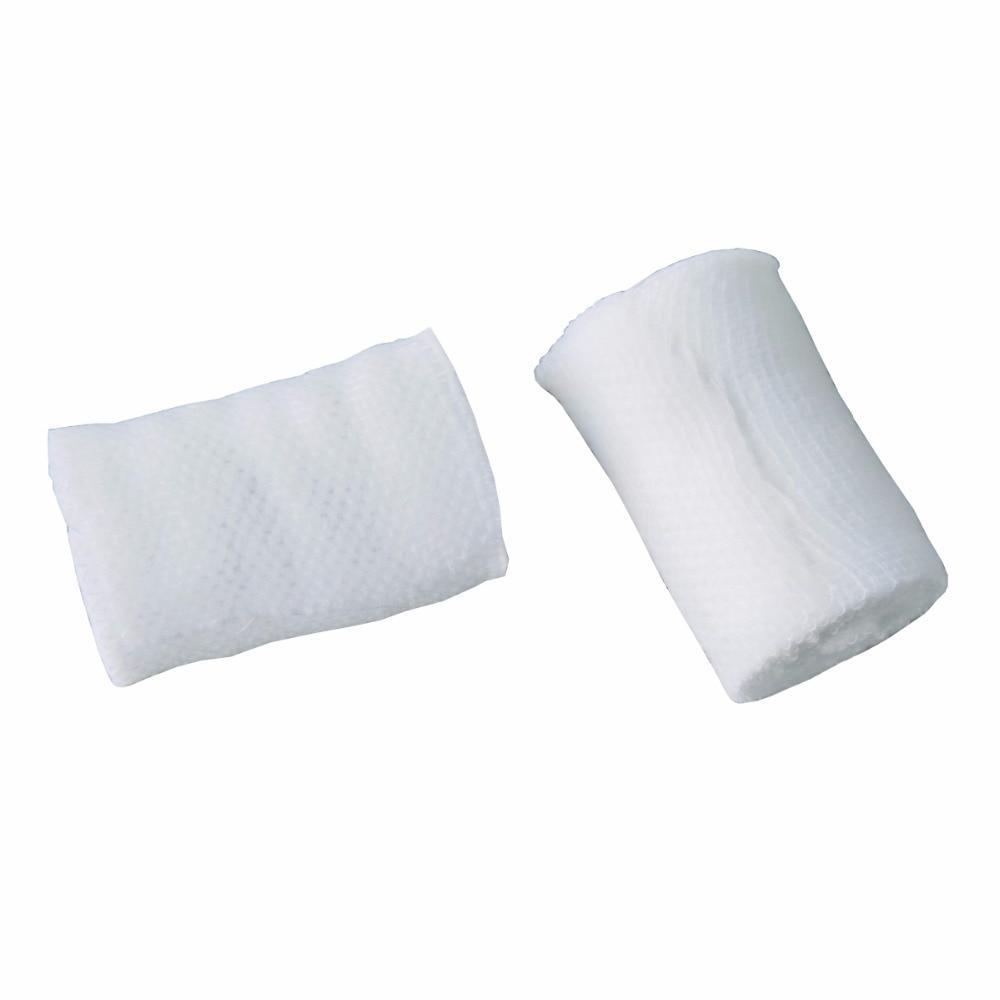bandage: (538, 244, 949, 695), (56, 324, 496, 686)
